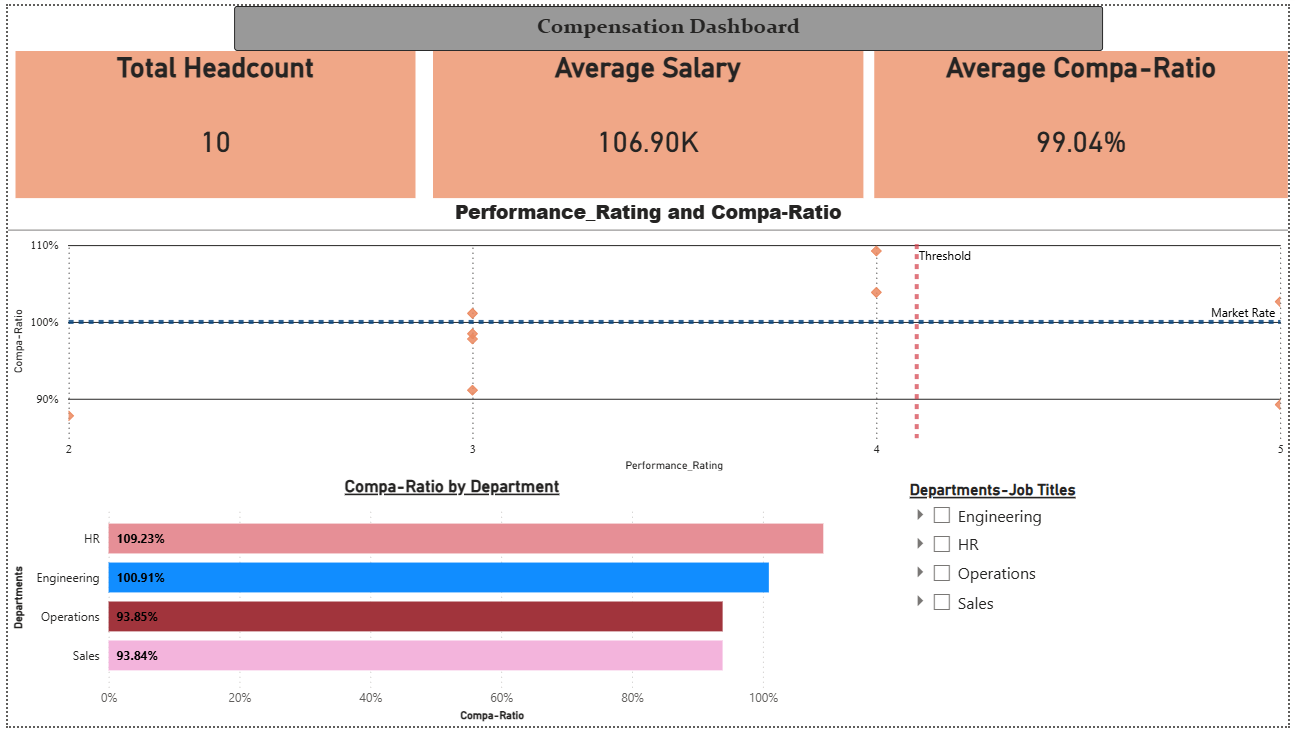

What the dashboard file says about the page in this screenshot:
{"tool":"powerbi","page":{"name":"Page 1","canvas":[1280,720],"ordinal":0},"visuals":[{"type":"card","title":"Total Headcount","fields":{"Values":["CountNonNull(employees_raw.Employee_ID)"]},"box":[7.5,45,400,147.5],"z":0},{"type":"card","title":"Average Salary","fields":{"Values":["Avg(employees_raw.Base_Salary_USD)"]},"box":[425,45,430,147.5],"z":1000},{"type":"card","title":"Average Compa-Ratio","fields":{"Values":["Avg(employees_raw.Compa-Ratio)"]},"box":[866.2,45,413.8,147.5],"z":2000},{"type":"scatterChart","title":"Performance_Rating and Compa-Ratio","fields":{"X":["employees_raw.Performance_Rating"],"Y":["employees_raw.Compa-Ratio"]},"box":[0,192.7,1280.4,277.3],"z":3000},{"type":"clusteredBarChart","title":"Compa-Ratio by Department","fields":{"Category":["employees_raw.Department"],"Y":["Avg(employees_raw.Compa-Ratio)"]},"box":[0,470,888.2,250.2],"z":4000},{"type":"slicer","fields":{"Values":["employees_raw.Department","employees_raw.Job_Title"]},"box":[888.2,470,391.1,250.2],"z":5000},{"type":"textbox","box":[226.2,0,868.8,45],"z":6000}]}

Visuals, with their boxes in screenshot pixels (x1, y1, x2, y2), scaled from the page's 1280x720 canvas onto the 1295x731 screenshot:
"Total Headcount" card: 8,46,412,195
"Average Salary" card: 430,46,865,195
"Average Compa-Ratio" card: 876,46,1294,195
"Performance_Rating and Compa-Ratio" scatterChart: 0,196,1294,477
"Compa-Ratio by Department" clusteredBarChart: 0,477,899,730
slicer - employees_raw.Department x employees_raw.Job_Title: 899,477,1294,730
textbox: 229,0,1108,46
